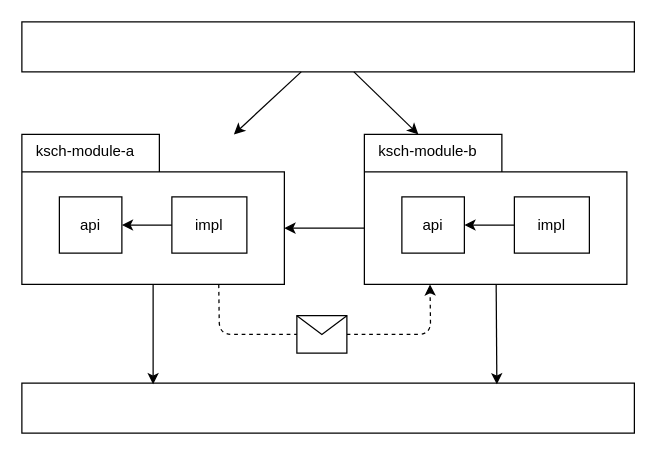
Some shapes in this 656 by 455 pixel diagram are drawn without their labels. The centre of each missing label's shape, as x and y in pixels:
commons: (327,407)
server: (327,46)
